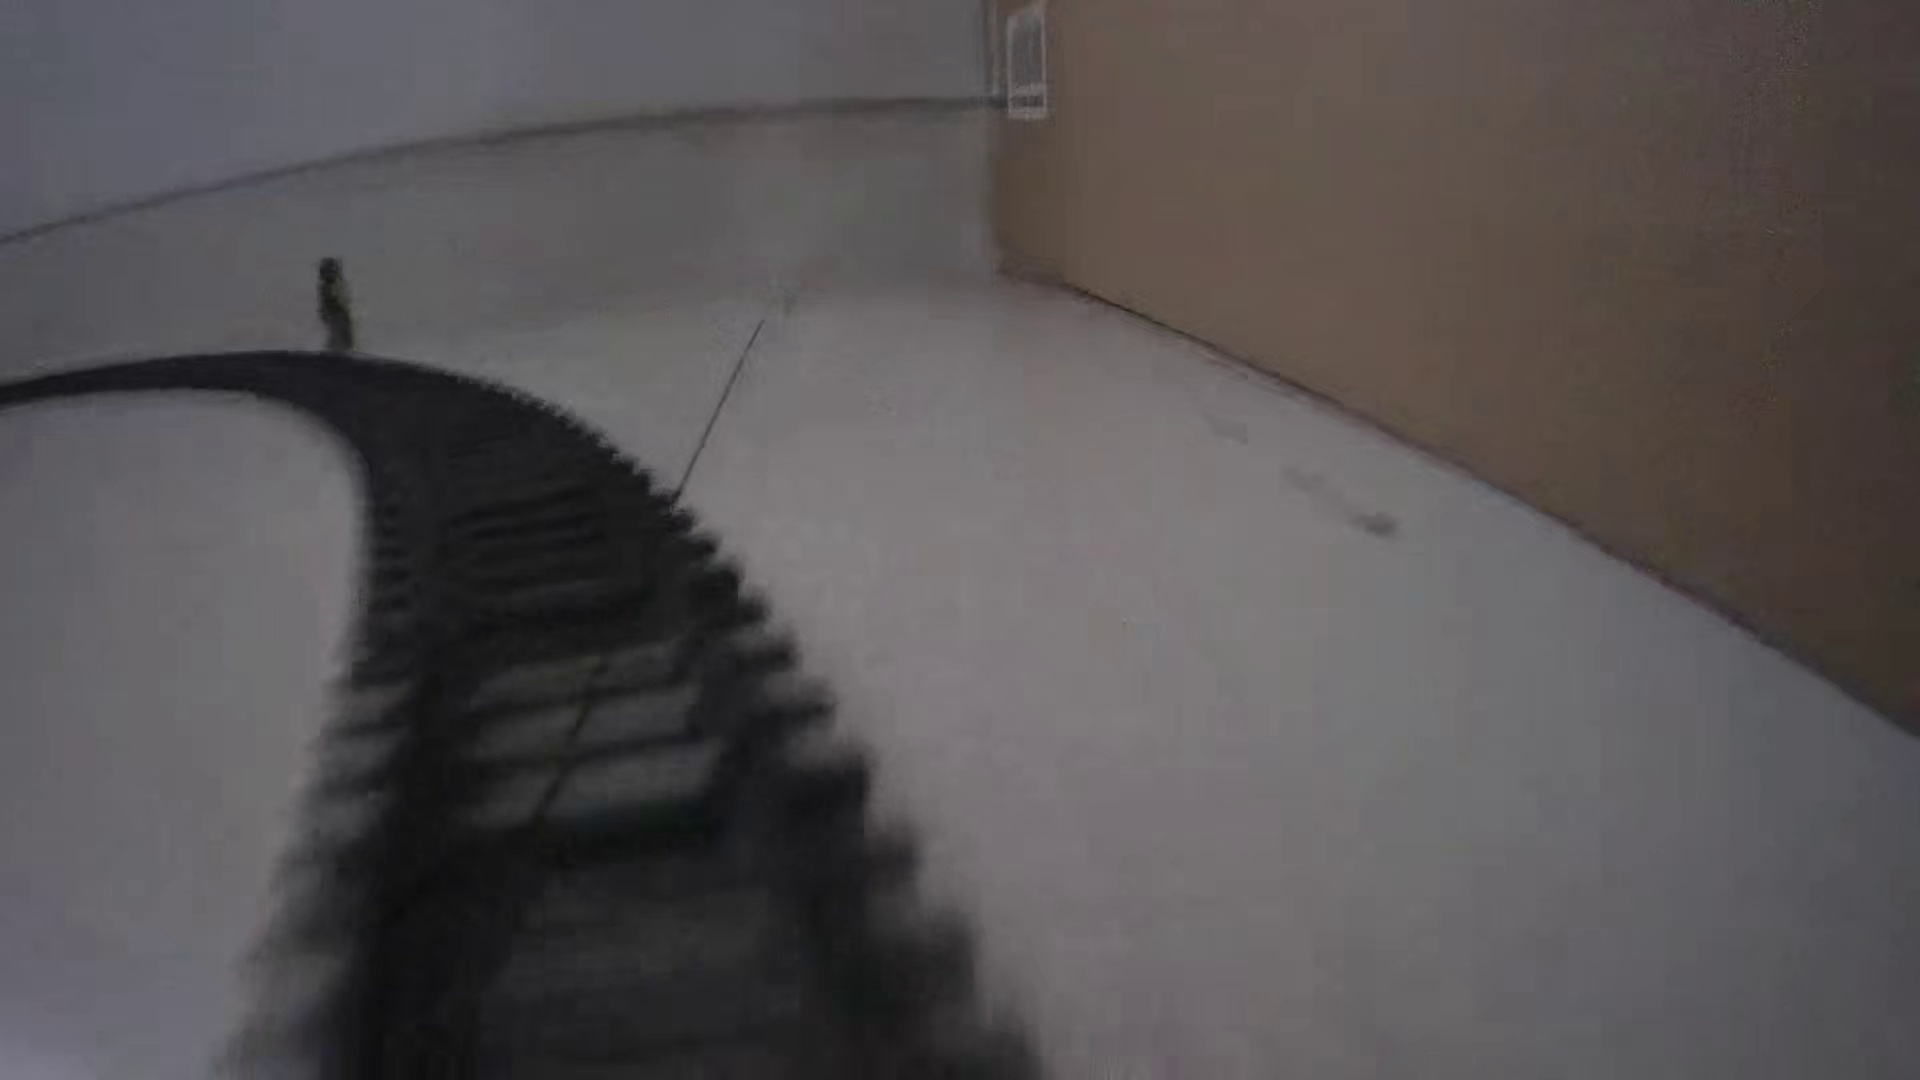people: (313, 253, 360, 361)
